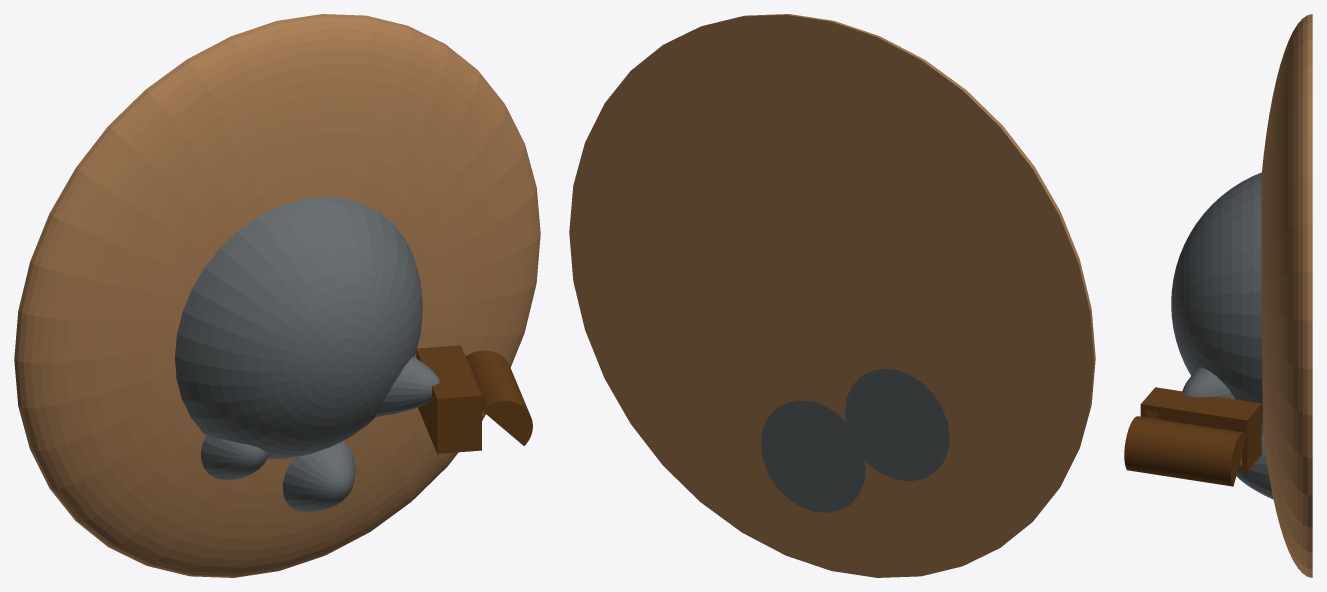
Rendered from tinker.obj.
3 views of the same model, side by side, from view 1: azimuth 30°, elevation 25°; view 2: azimuth 150°, elevation 25°; view 3: azimuth 270°, elevation 25° (orthographic). The views are drawn at different scales.
Visible parts, largest first — view 1: group_0_11107152, group_0_6383466, group_0_6306067; view 2: group_0_11107152, group_0_6383466; view 3: group_0_11107152, group_0_6383466, group_0_6306067.
Part boxes in pixels (<box>): group_0_11107152: <box>14,14,540,577</box>; group_0_6383466: <box>175,196,439,512</box>; group_0_6306067: <box>416,345,532,453</box>; group_0_11107152: <box>569,14,1095,577</box>; group_0_6383466: <box>761,368,949,512</box>; group_0_11107152: <box>1261,14,1312,577</box>; group_0_6383466: <box>1171,172,1273,499</box>; group_0_6306067: <box>1124,387,1261,486</box>.
Size of the model in its own units: 200 by 200 by 66.56.
